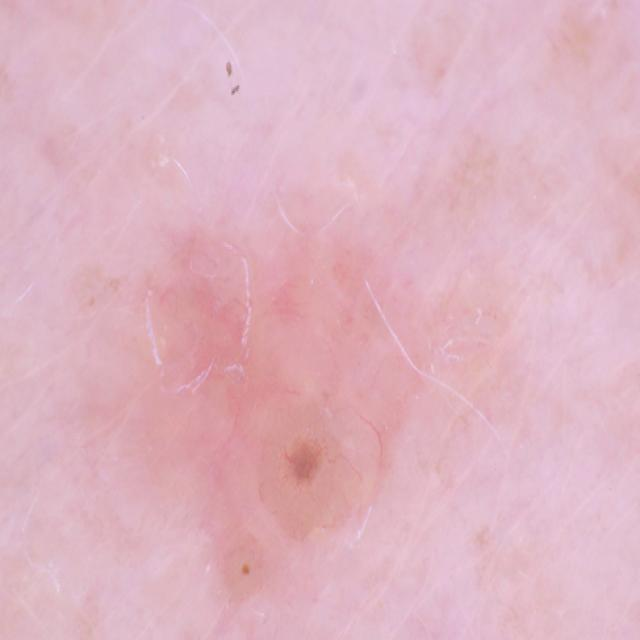Carcinoma: (144, 245, 496, 640)
